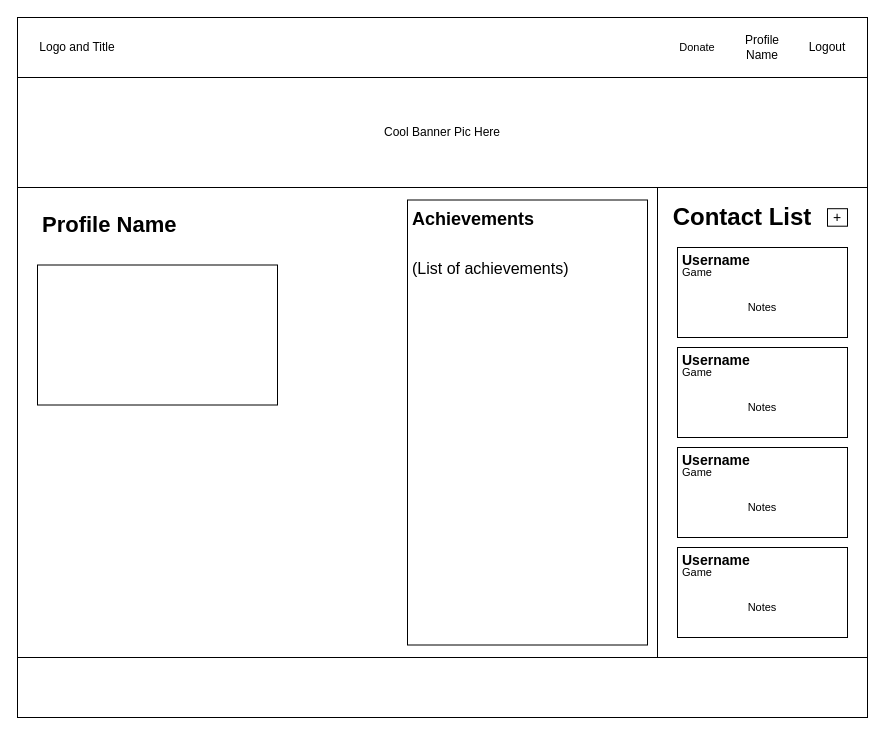
This 885x735 diagram has some shape labels left out. The shapes that lost their labels are listed below. From the top down, each one's box as (x1, y1, x2, y2) in pixels, then its label:
(36, 264, 278, 405): Connect Game Profiles (List of games and logos)
(16, 656, 868, 718): Footer
